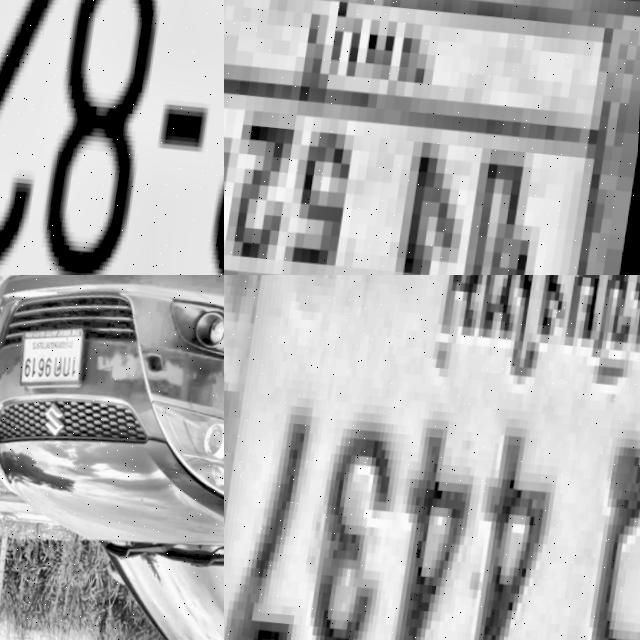license-plate: (224, 275, 640, 640), (224, 0, 640, 275), (0, 0, 224, 275), (15, 319, 90, 389)
